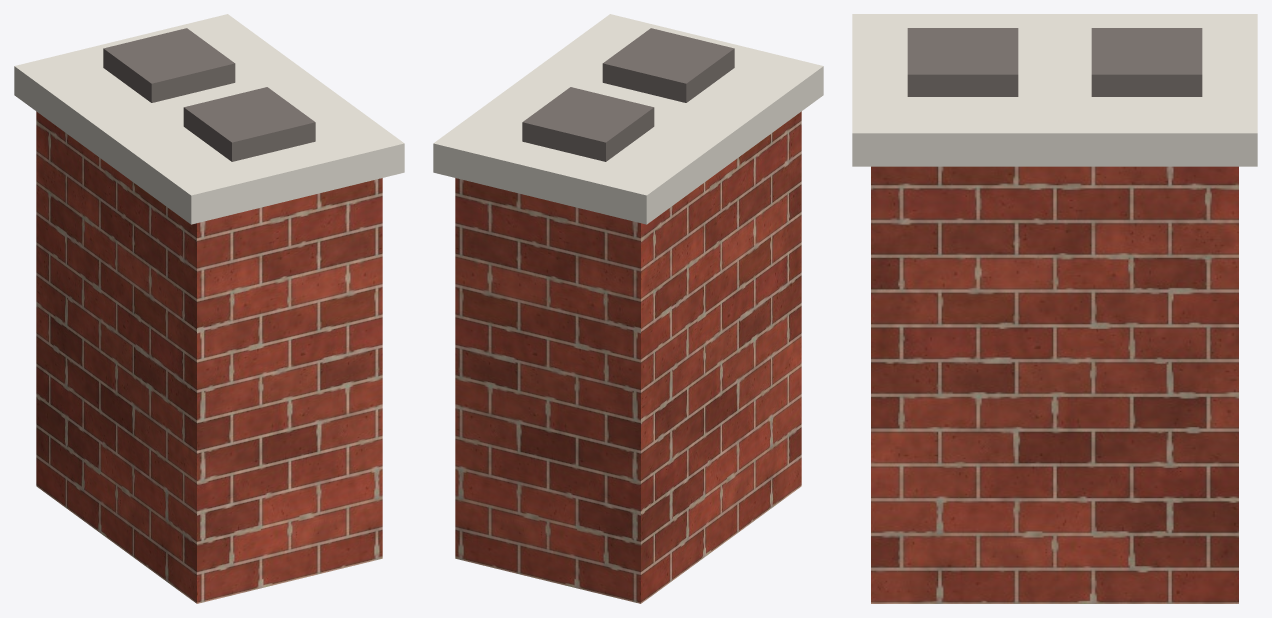
The model's file is chimney.glb.
The picture shows the model from 3 angles, left to right: view 1: azimuth 30°, elevation 25°; view 2: azimuth 150°, elevation 25°; view 3: azimuth 270°, elevation 25°; orthographic projection. The views are drawn at different scales.
Visible parts, largest first — view 1: chimney_brick, chimney_trim, chimney_dark; view 2: chimney_brick, chimney_trim, chimney_dark; view 3: chimney_brick, chimney_trim, chimney_dark.
Boxes of the visible parts, x1,y1,x2,y2 form: chimney_brick: (36,111,382,603); chimney_trim: (14,14,404,224); chimney_dark: (103,28,315,161); chimney_brick: (455,111,801,603); chimney_trim: (433,14,823,224); chimney_dark: (522,28,734,161); chimney_brick: (871,166,1238,603); chimney_trim: (852,14,1257,166); chimney_dark: (907,28,1202,96).
Bounding box in the file's own units: 0.92 × 1.8 × 1.32.
Materials: 3 (1 with a texture image).
